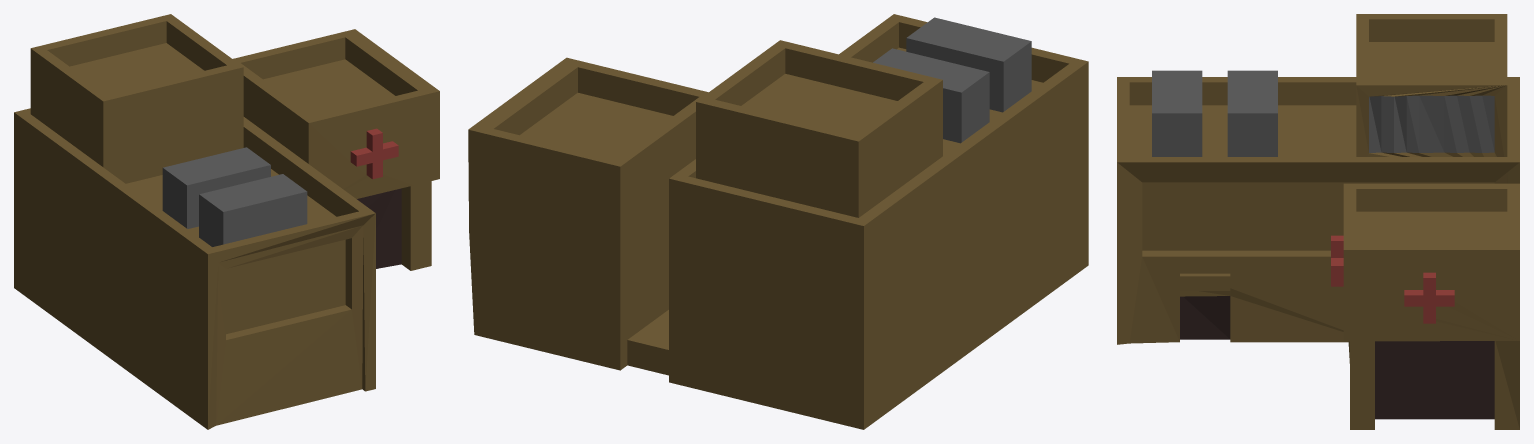
Rendered from Hospital.fbx.
3 renders of one model, left to right at view 1: azimuth 30°, elevation 25°; view 2: azimuth 150°, elevation 25°; view 3: azimuth 270°, elevation 25°, orthographic. The views are drawn at different scales.
Parts seen in each view (by area): view 1: Hospital; view 2: Hospital; view 3: Hospital.
Part boxes in pixels (x1,y1,x2,y2): Hospital: (14, 14, 439, 429); Hospital: (468, 14, 1088, 429); Hospital: (1117, 14, 1519, 429).
Bounding box in the file's own units: 24643 × 16190 × 23550.
